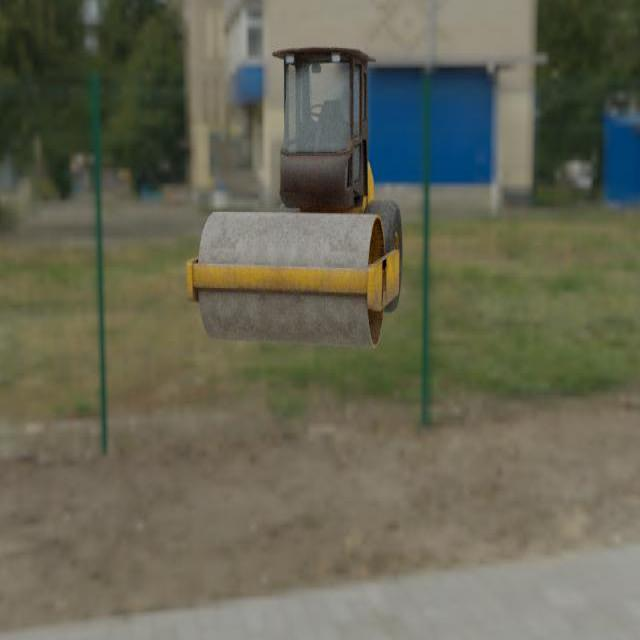Roller: (186, 45, 403, 348)
